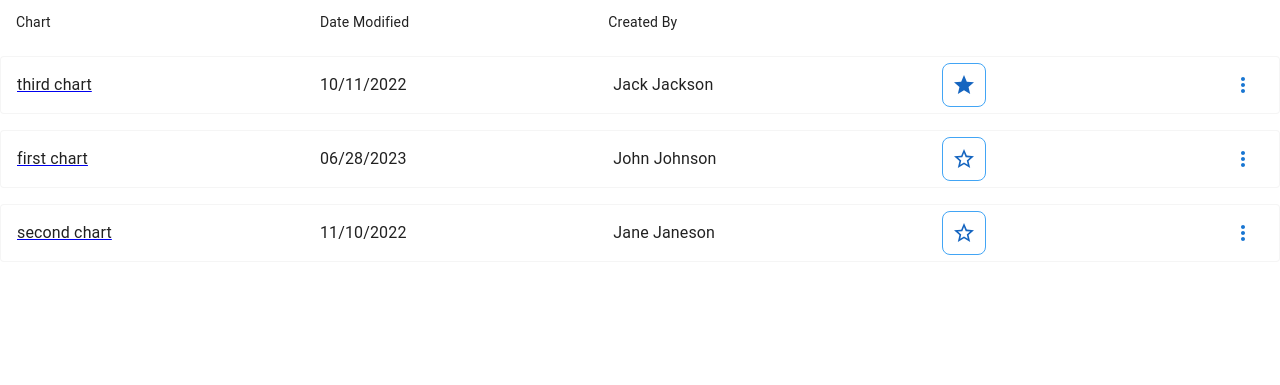
Test: ChartsTable › renders a menu of chart actions
Click the button with test id "1" at (1243, 159), box [1223, 139, 1263, 179]
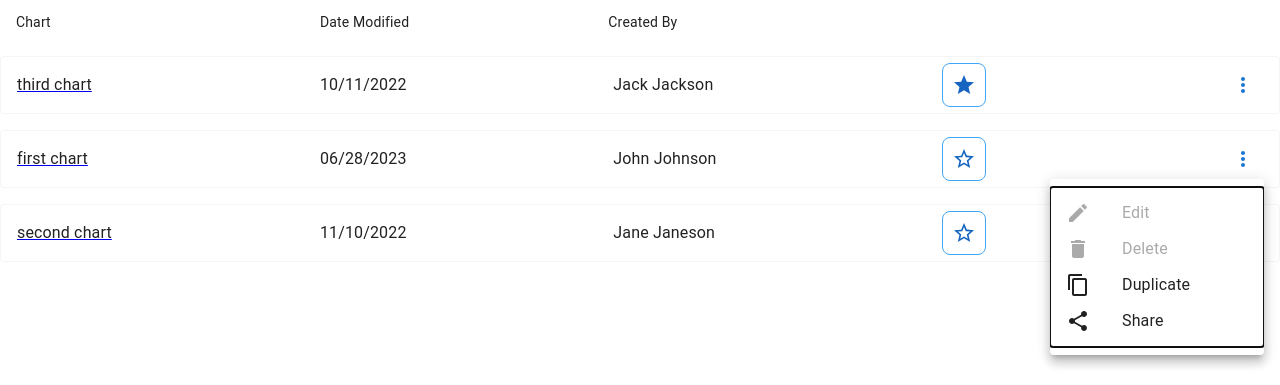
Check: the text "Delete" is shown, box [1122, 237, 1168, 261]
Check: the text "Duplicate" is shown, box [1122, 273, 1190, 297]
Check: the text "Share" is shown, box [1122, 309, 1164, 333]
